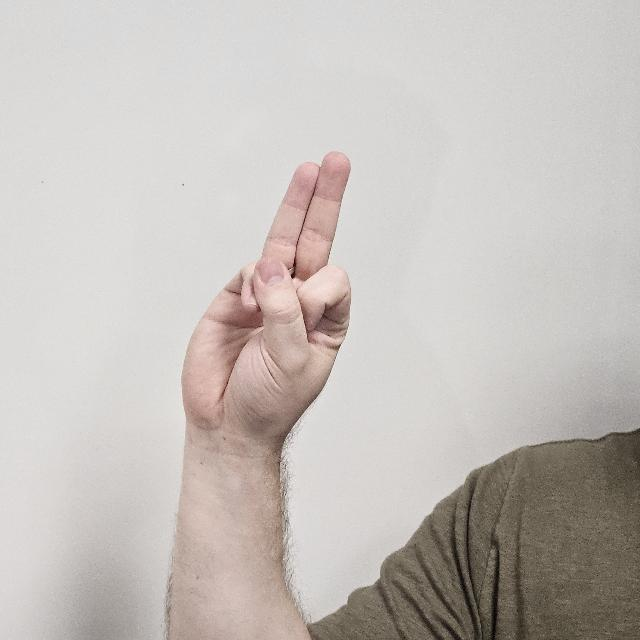R: (180, 147, 352, 450)
